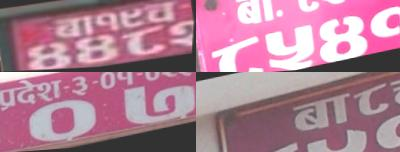0: (24, 95, 102, 151), (96, 72, 117, 95), (142, 72, 162, 89)
1: (365, 4, 400, 56), (93, 11, 125, 38), (112, 72, 137, 93)
2: (368, 106, 400, 152), (168, 21, 194, 57), (317, 0, 348, 10), (159, 72, 179, 86)
3: (67, 76, 93, 103), (175, 72, 196, 84)
4: (312, 14, 371, 68), (70, 33, 125, 69), (23, 39, 79, 71)
5: (259, 23, 319, 72)
7: (118, 76, 196, 135)
8: (205, 34, 267, 72), (118, 24, 175, 64), (350, 82, 394, 123), (290, 0, 323, 18)
9: (298, 125, 381, 152), (118, 7, 149, 34)
ba: (286, 90, 357, 140), (48, 13, 98, 43), (231, 0, 279, 31)
cha: (143, 0, 184, 29), (386, 72, 400, 116)
